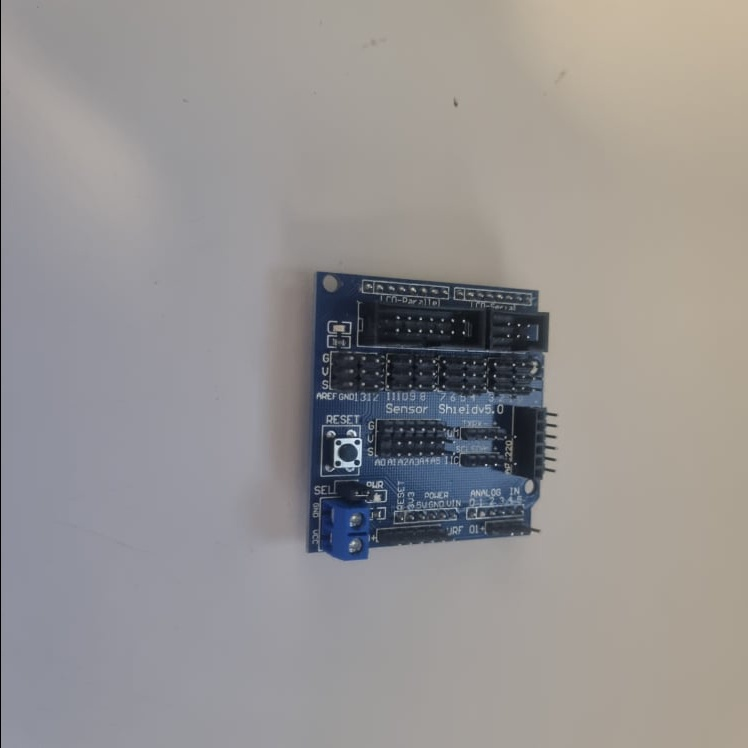5V EXPANSION: (307, 268, 562, 566)
